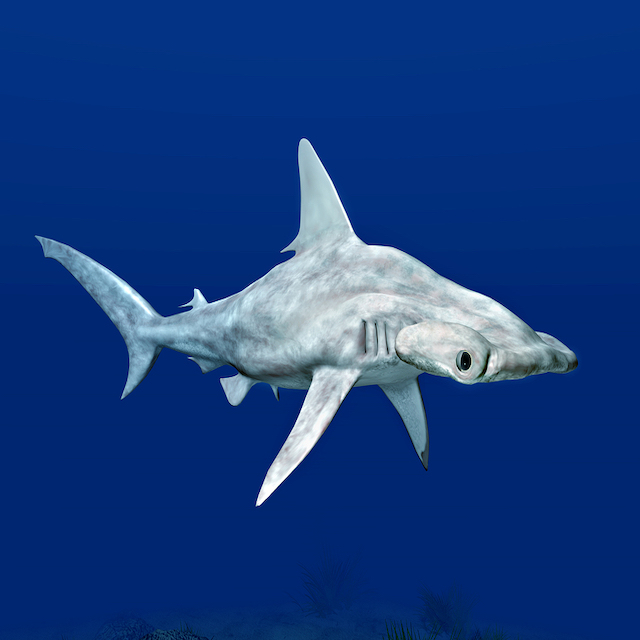hammerhead: (266, 193, 620, 418)
